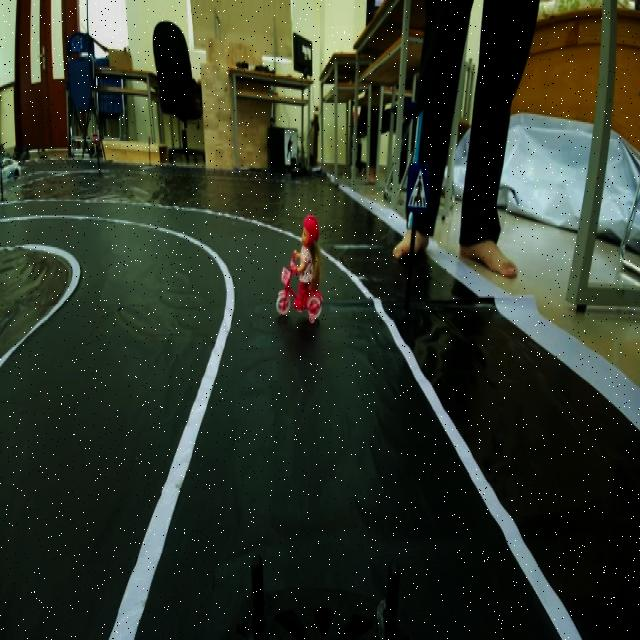crosswalk: (404, 149, 434, 222)
pedestrian: (277, 215, 331, 336)
